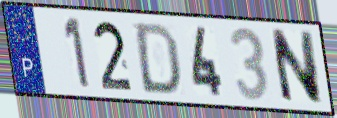1: (62, 16, 94, 91)
2: (92, 19, 135, 92)
3: (228, 26, 273, 104)
4: (190, 25, 225, 99)
D: (133, 21, 182, 97)
N: (268, 27, 325, 107)
